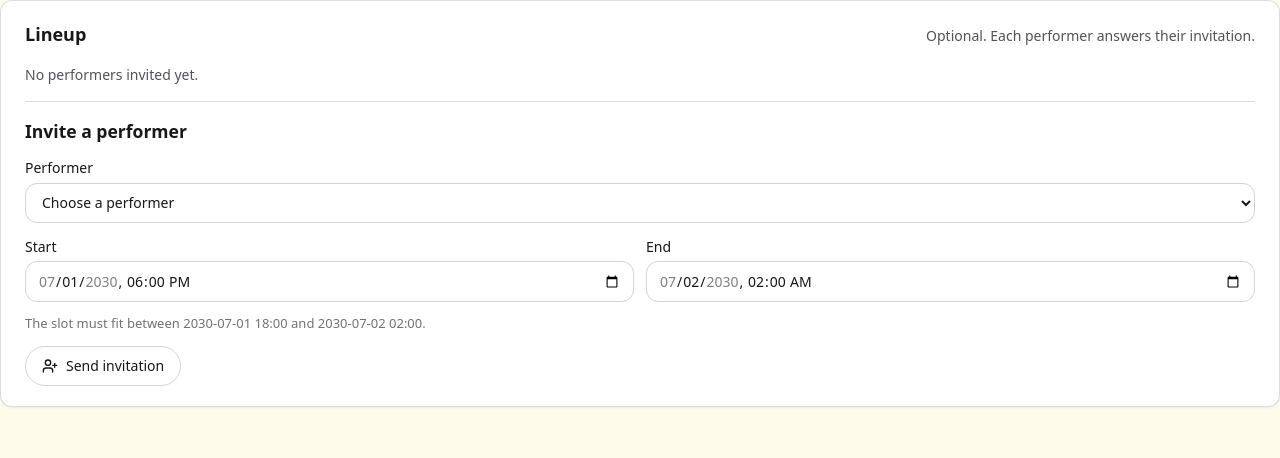
Scenario: LineupSection › shows the API's reason when the invitation is refused
Step 1. Select "DJ Test (techno)" in the dropdown labelled "Performer" → (640, 203), box [25,183,1255,223]
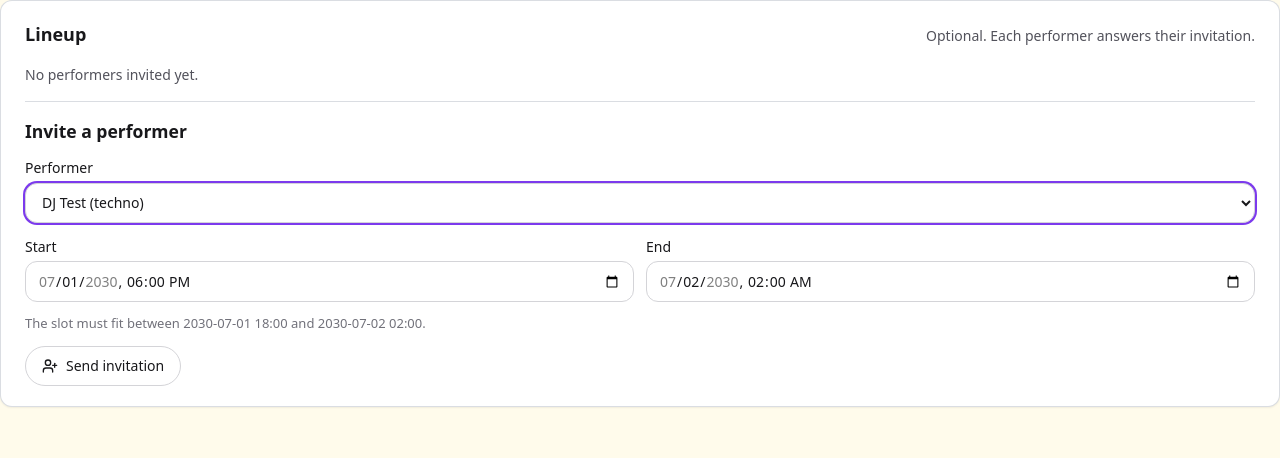
Step 2. Click the button "Send invitation" → (103, 366), box [25,346,181,386]
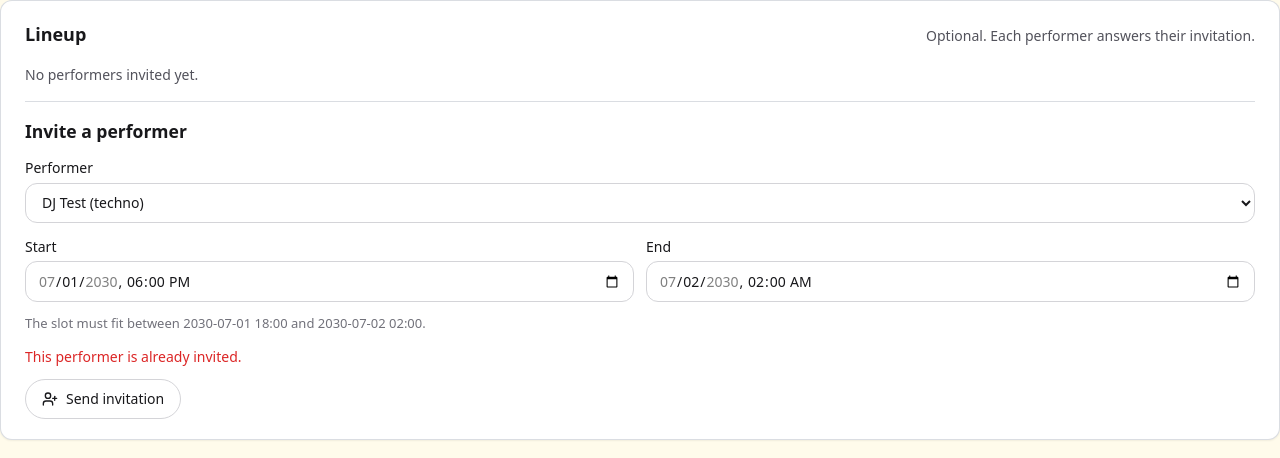
Check: the text "This performer is already invited." is shown, box [25,347,242,366]
